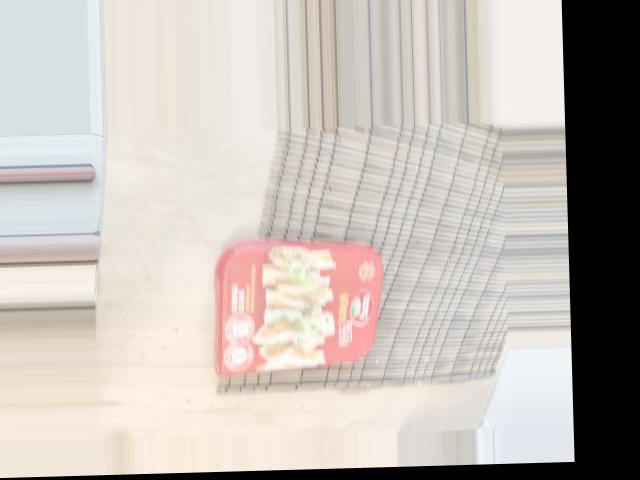cheese: (260, 110, 389, 305)
